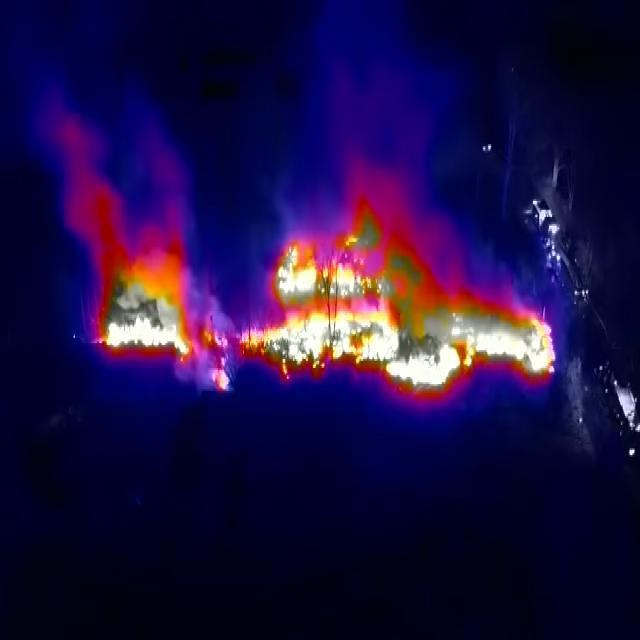fire: (203, 235, 556, 395), (92, 246, 197, 371)
